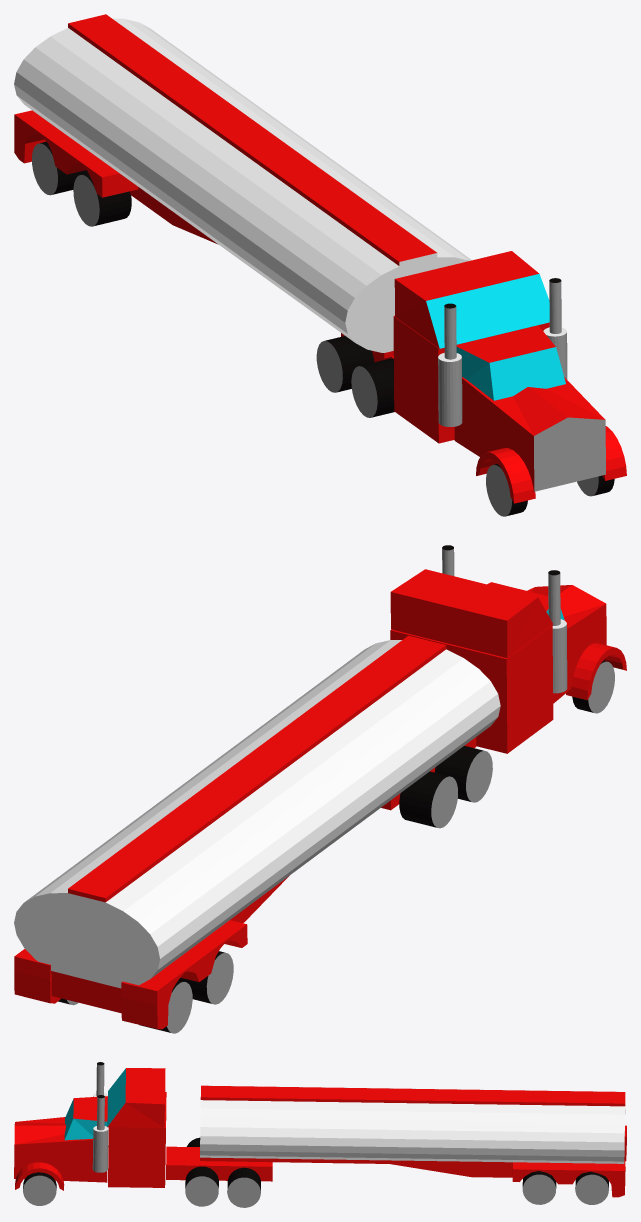
The model's file is truck.dae.
3 renders of one model, top to bottom at view 1: azimuth 30°, elevation 25°; view 2: azimuth 150°, elevation 25°; view 3: azimuth 270°, elevation 25°, orthographic. The views are drawn at different scales.
Parts seen in each view (by area): view 1: SketchUp (×21); view 2: SketchUp (×16); view 3: SketchUp (×21).
Part boxes in pixels (x1=…): SketchUp (×21): x1=14, y1=14, x2=626, y2=516; SketchUp (×16): x1=14, y1=569, x2=626, y2=1033; SketchUp (×21): x1=14, y1=1064, x2=625, y2=1207.
Size of the model in its own units: 134 by 749 by 149.
